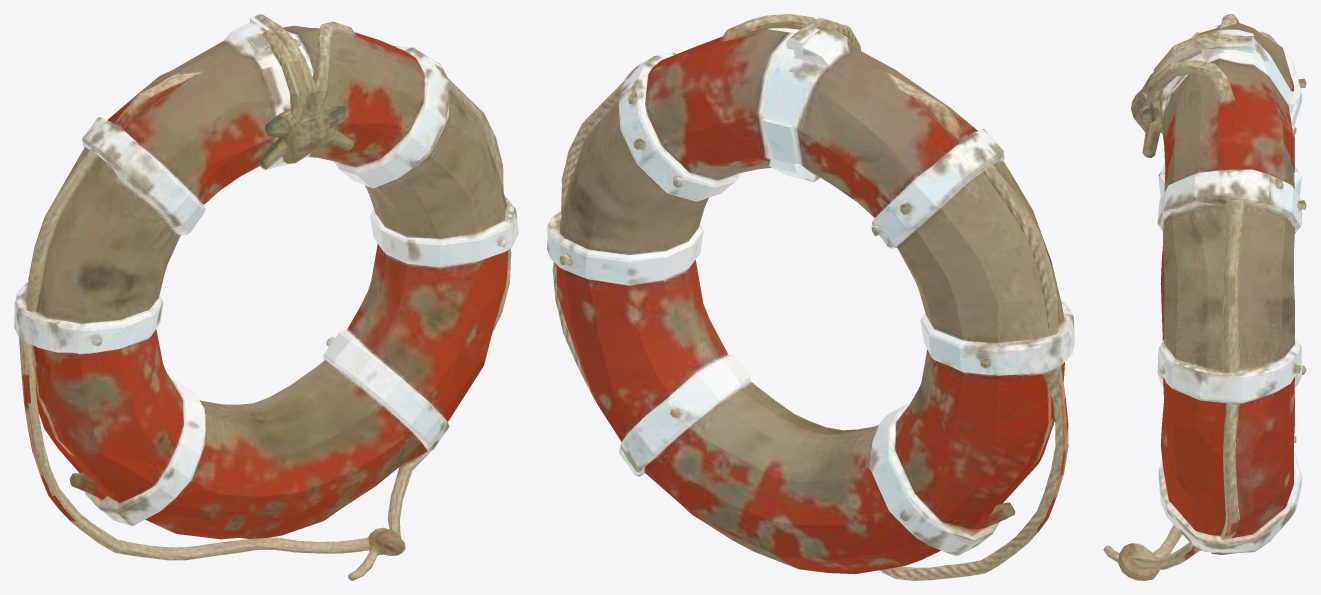
The model's file is wreck_lifering.glb.
The picture shows the model from 3 angles, left to right: view 1: azimuth 30°, elevation 25°; view 2: azimuth 150°, elevation 25°; view 3: azimuth 270°, elevation 25°; orthographic projection. The views are drawn at different scales.
Visible parts, largest first — view 1: mesh_node; view 2: mesh_node; view 3: mesh_node.
Part boxes in pixels (bbox=[...]): mesh_node: bbox=[14, 14, 518, 580]; mesh_node: bbox=[547, 14, 1074, 580]; mesh_node: bbox=[1103, 14, 1306, 580].
Size of the model in its own units: 1.88 by 1.91 by 0.6928.
1 material, 1 textured.
